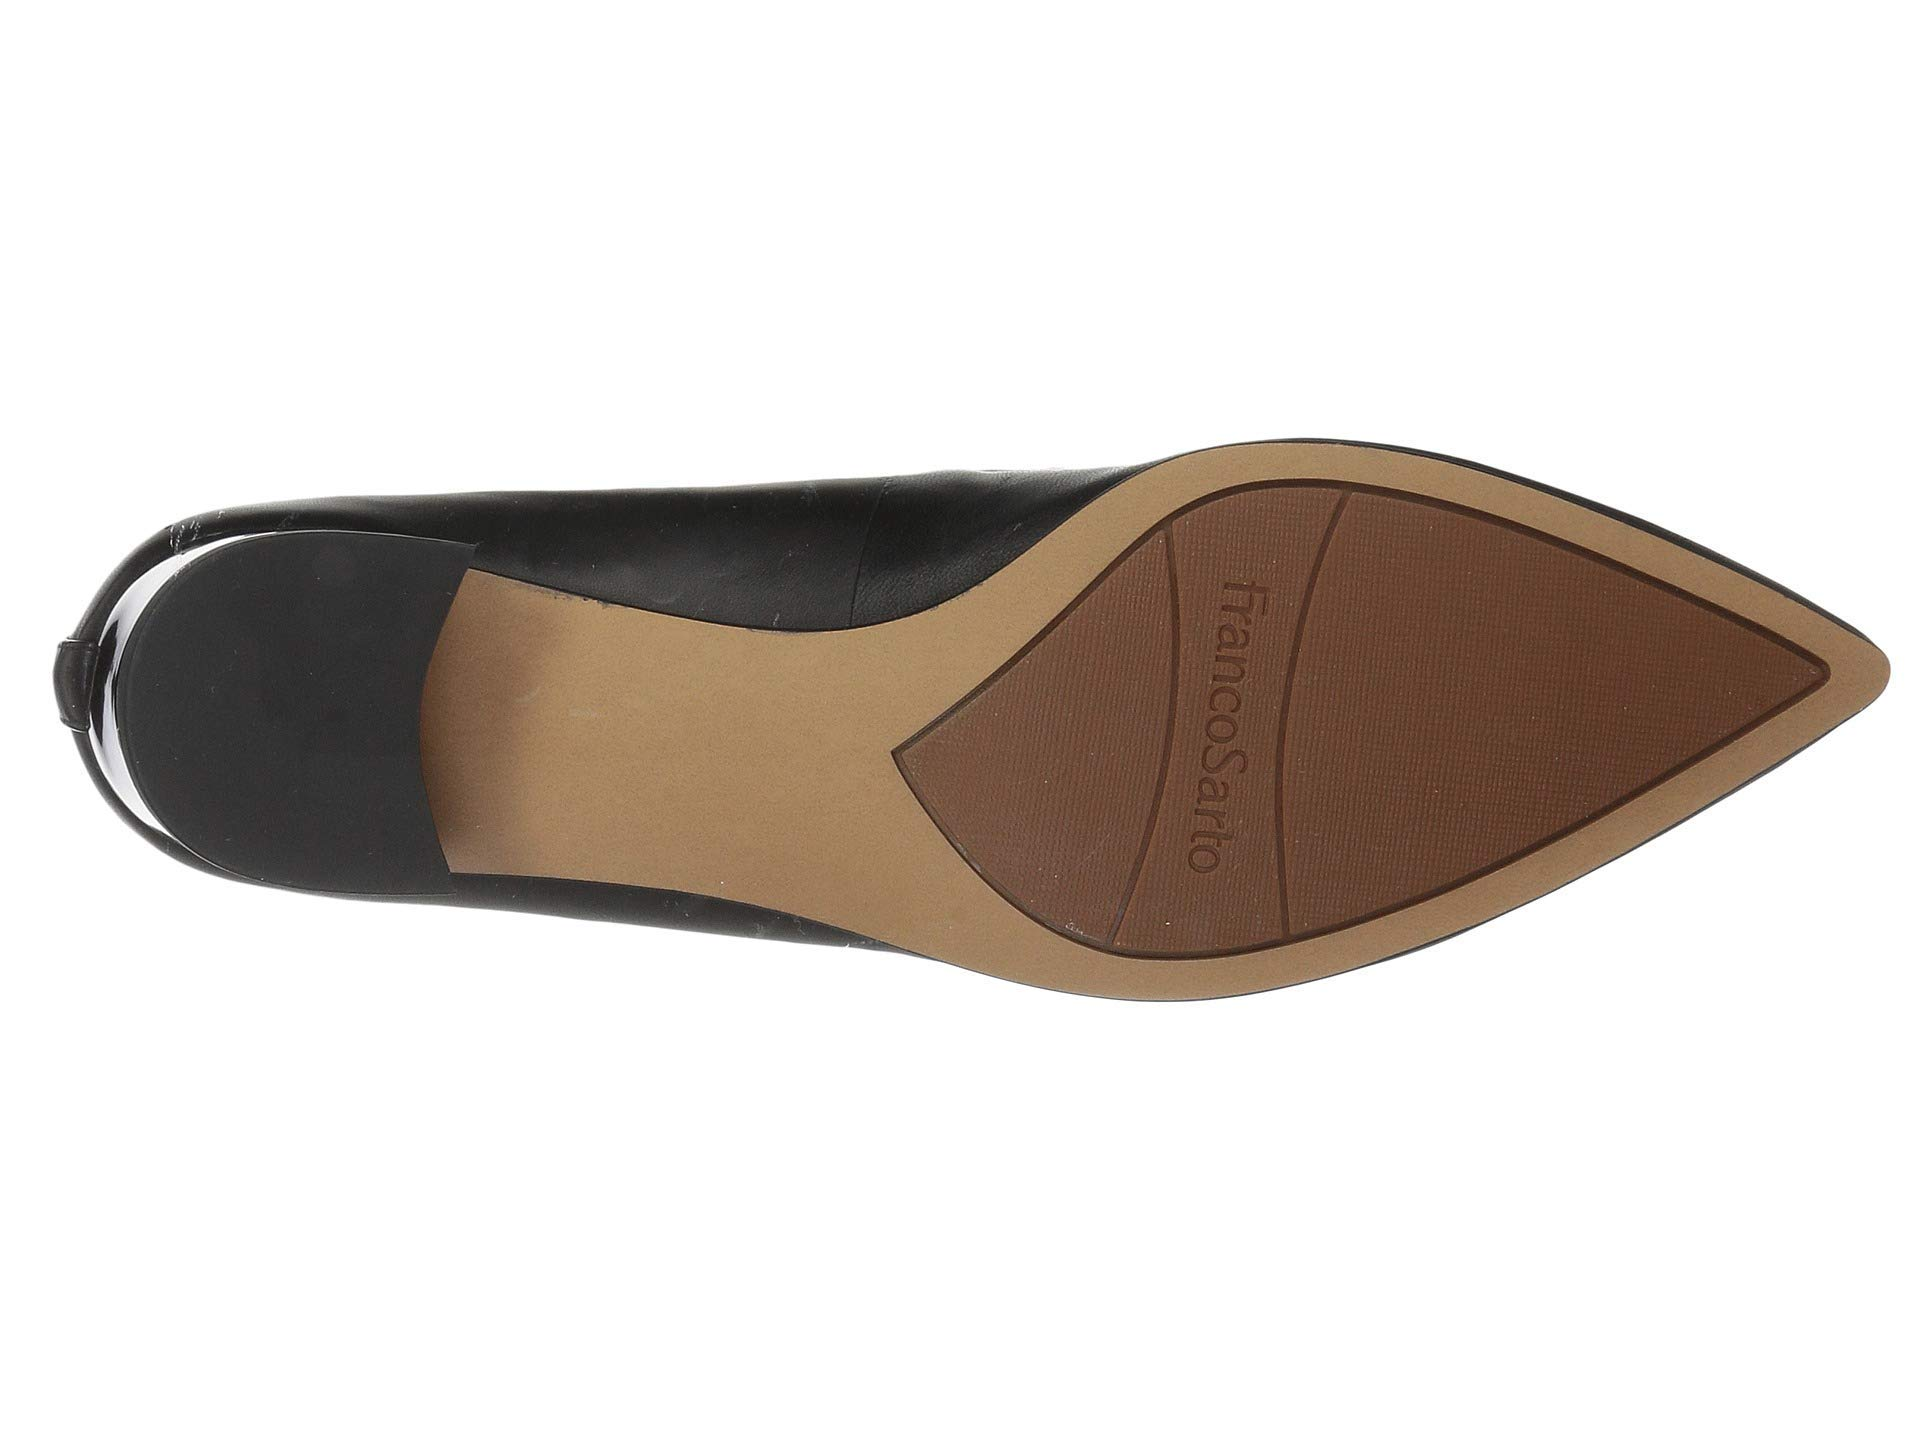circle: (1166, 529, 1279, 900)
line: (1166, 529, 1279, 900)
text: (1166, 529, 1279, 900)
